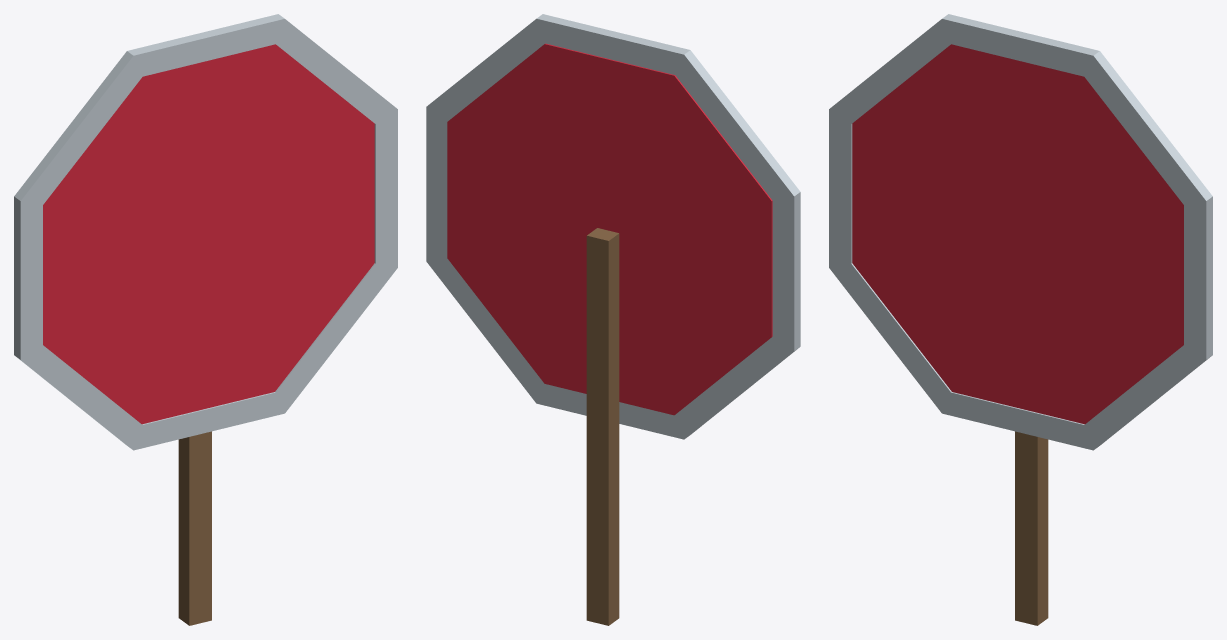
Rendered from stop.glb.
The picture shows the model from 3 angles, left to right: view 1: azimuth 30°, elevation 25°; view 2: azimuth 150°, elevation 25°; view 3: azimuth 330°, elevation 25°; orthographic projection. The views are drawn at different scales.
Bounding box in the file's own units: 1 × 1.5 × 0.089.
